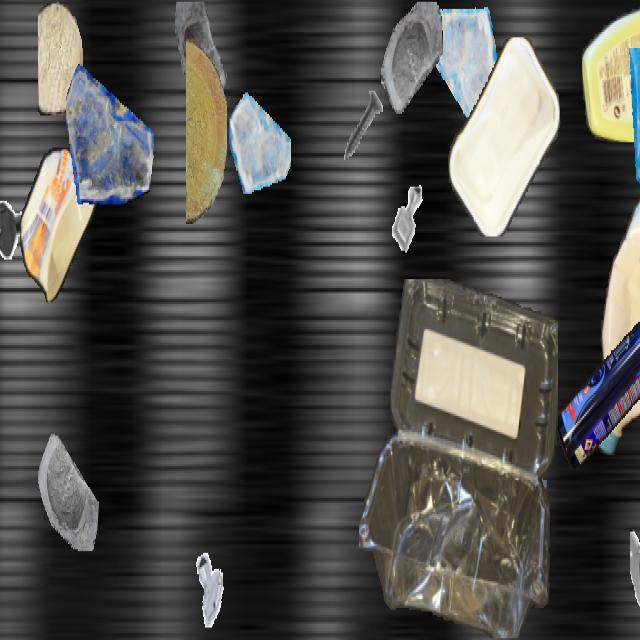glass: (66, 52, 154, 208), (471, 426, 547, 562), (25, 418, 99, 549), (427, 2, 499, 130), (171, 1, 235, 116), (229, 84, 291, 194), (380, 2, 442, 112), (620, 48, 640, 204)
metal: (337, 80, 391, 176), (382, 172, 434, 265), (190, 548, 234, 626), (0, 190, 32, 265), (630, 526, 640, 633)
plastic: (359, 279, 557, 638), (447, 38, 561, 236), (596, 153, 640, 462), (556, 322, 640, 468), (20, 147, 98, 300), (582, 2, 640, 140)
wood: (186, 39, 226, 224), (38, 1, 82, 116)
